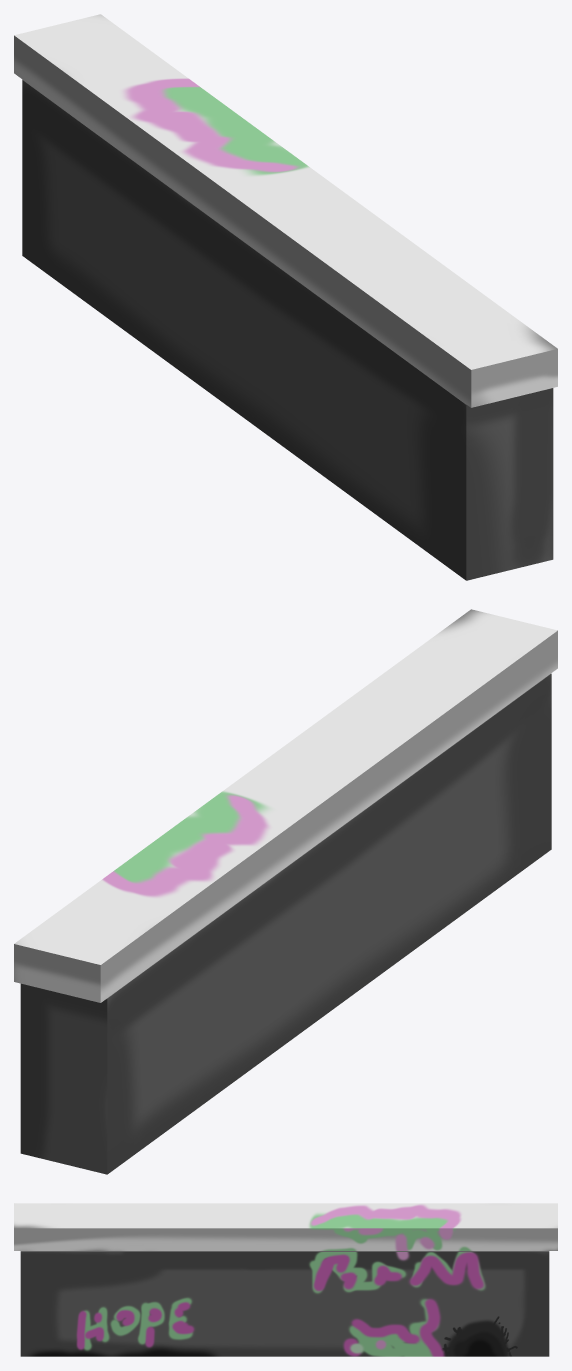
File: muro2textura2comgraffiti.fbx
3 renders of one model, top to bottom at view 1: azimuth 30°, elevation 25°; view 2: azimuth 150°, elevation 25°; view 3: azimuth 270°, elevation 25°, orthographic. The views are drawn at different scales.
Visible parts, largest first — view 1: Cube; view 2: Cube; view 3: Cube.
Part boxes in pixels (x1=…): Cube: x1=14, y1=14, x2=557, y2=580; Cube: x1=14, y1=609, x2=557, y2=1174; Cube: x1=14, y1=1203, x2=557, y2=1356.
Bounding box in the file's own units: 79.94 × 188 × 722.
